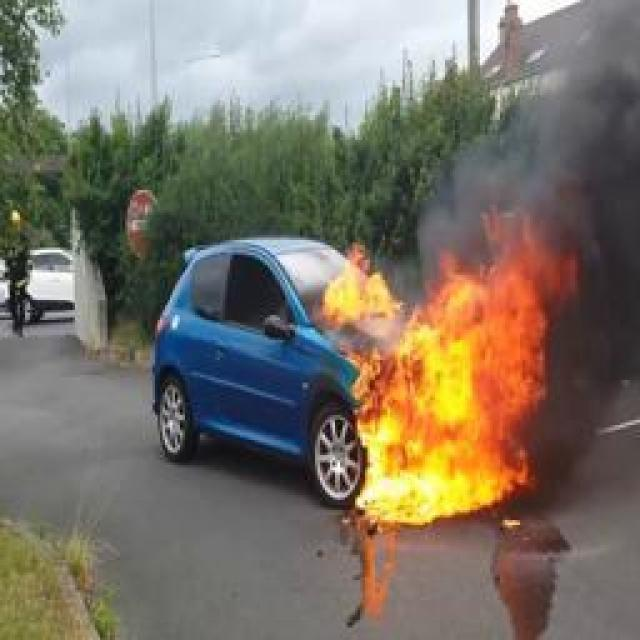Fire: (340, 205, 580, 525), (322, 245, 400, 320)
